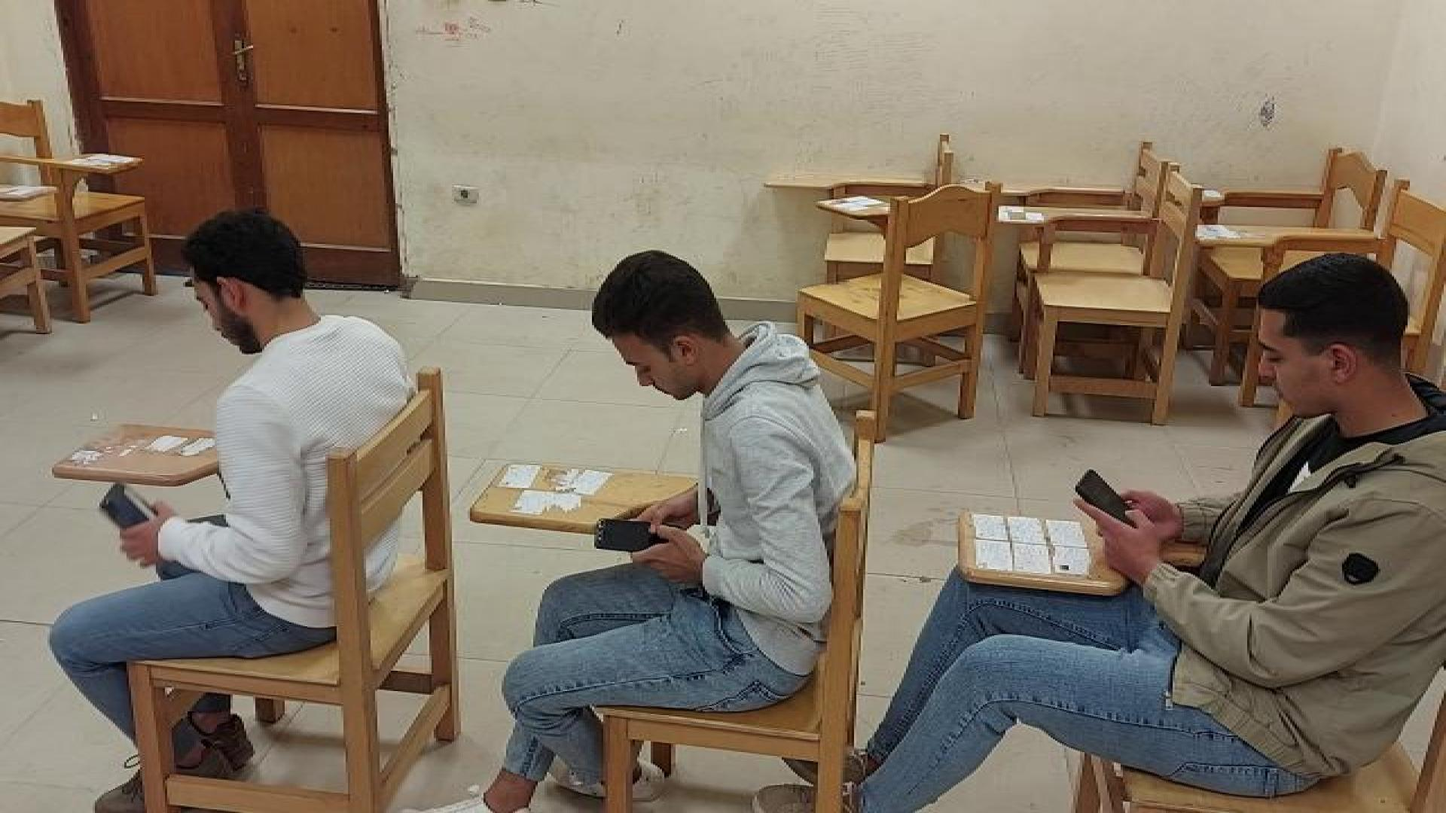phone: (1072, 464, 1144, 550), (90, 481, 169, 557), (586, 516, 690, 568)
